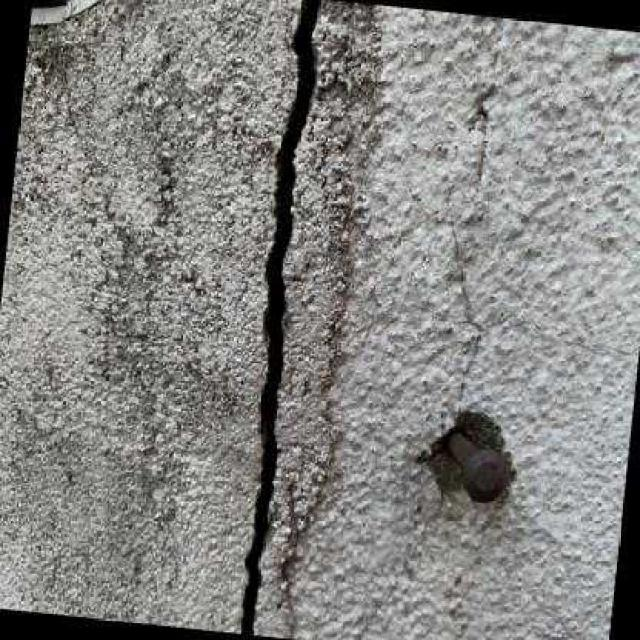D00: (239, 0, 321, 635)
